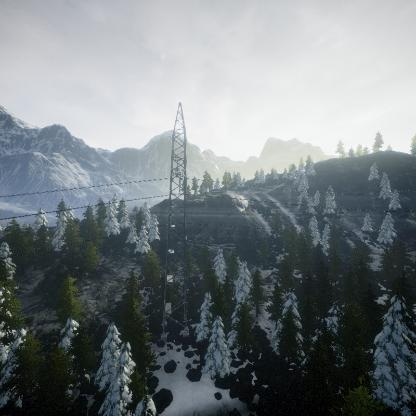tower: (159, 102, 191, 339)
